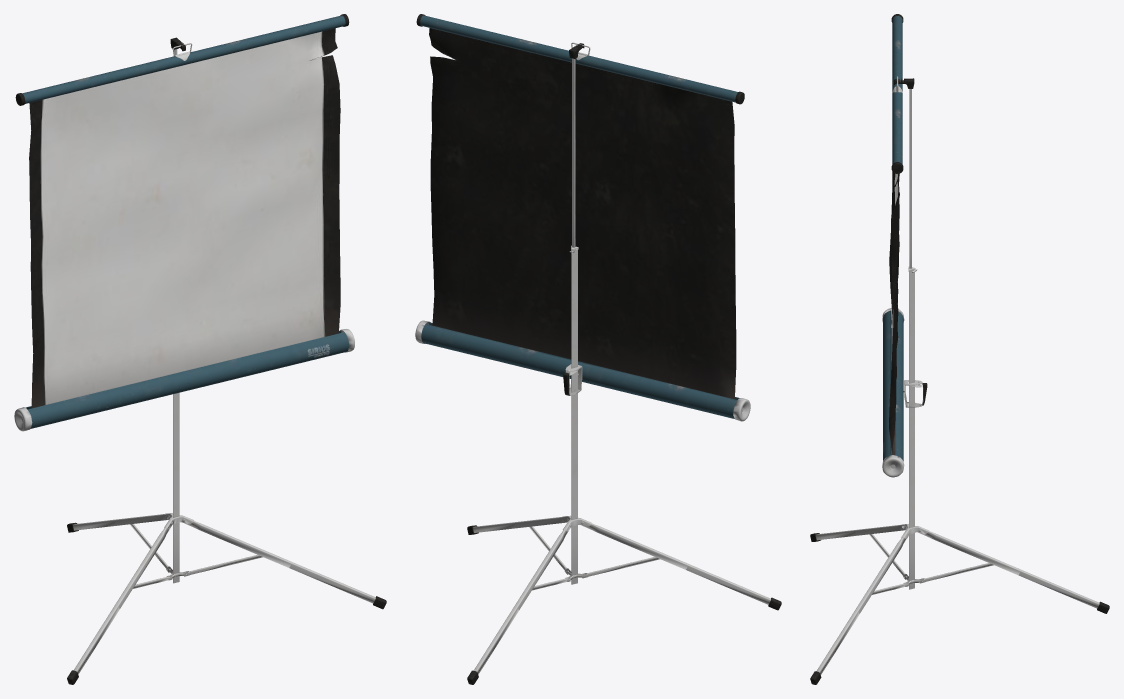
File: projscreen.glb
The picture shows the model from 3 angles, left to right: view 1: azimuth 30°, elevation 25°; view 2: azimuth 150°, elevation 25°; view 3: azimuth 270°, elevation 25°; orthographic projection. The views are drawn at different scales.
Visible parts, largest first — view 1: projector_screen; view 2: projector_screen; view 3: projector_screen.
Part boxes in pixels (x1,y1,x2,y2): projector_screen: [14, 14, 386, 684]; projector_screen: [415, 14, 781, 684]; projector_screen: [810, 14, 1109, 684].
Bounding box in the file's own units: 1.09 × 1.8 × 0.9158.
Materials: 2 (2 with a texture image).
